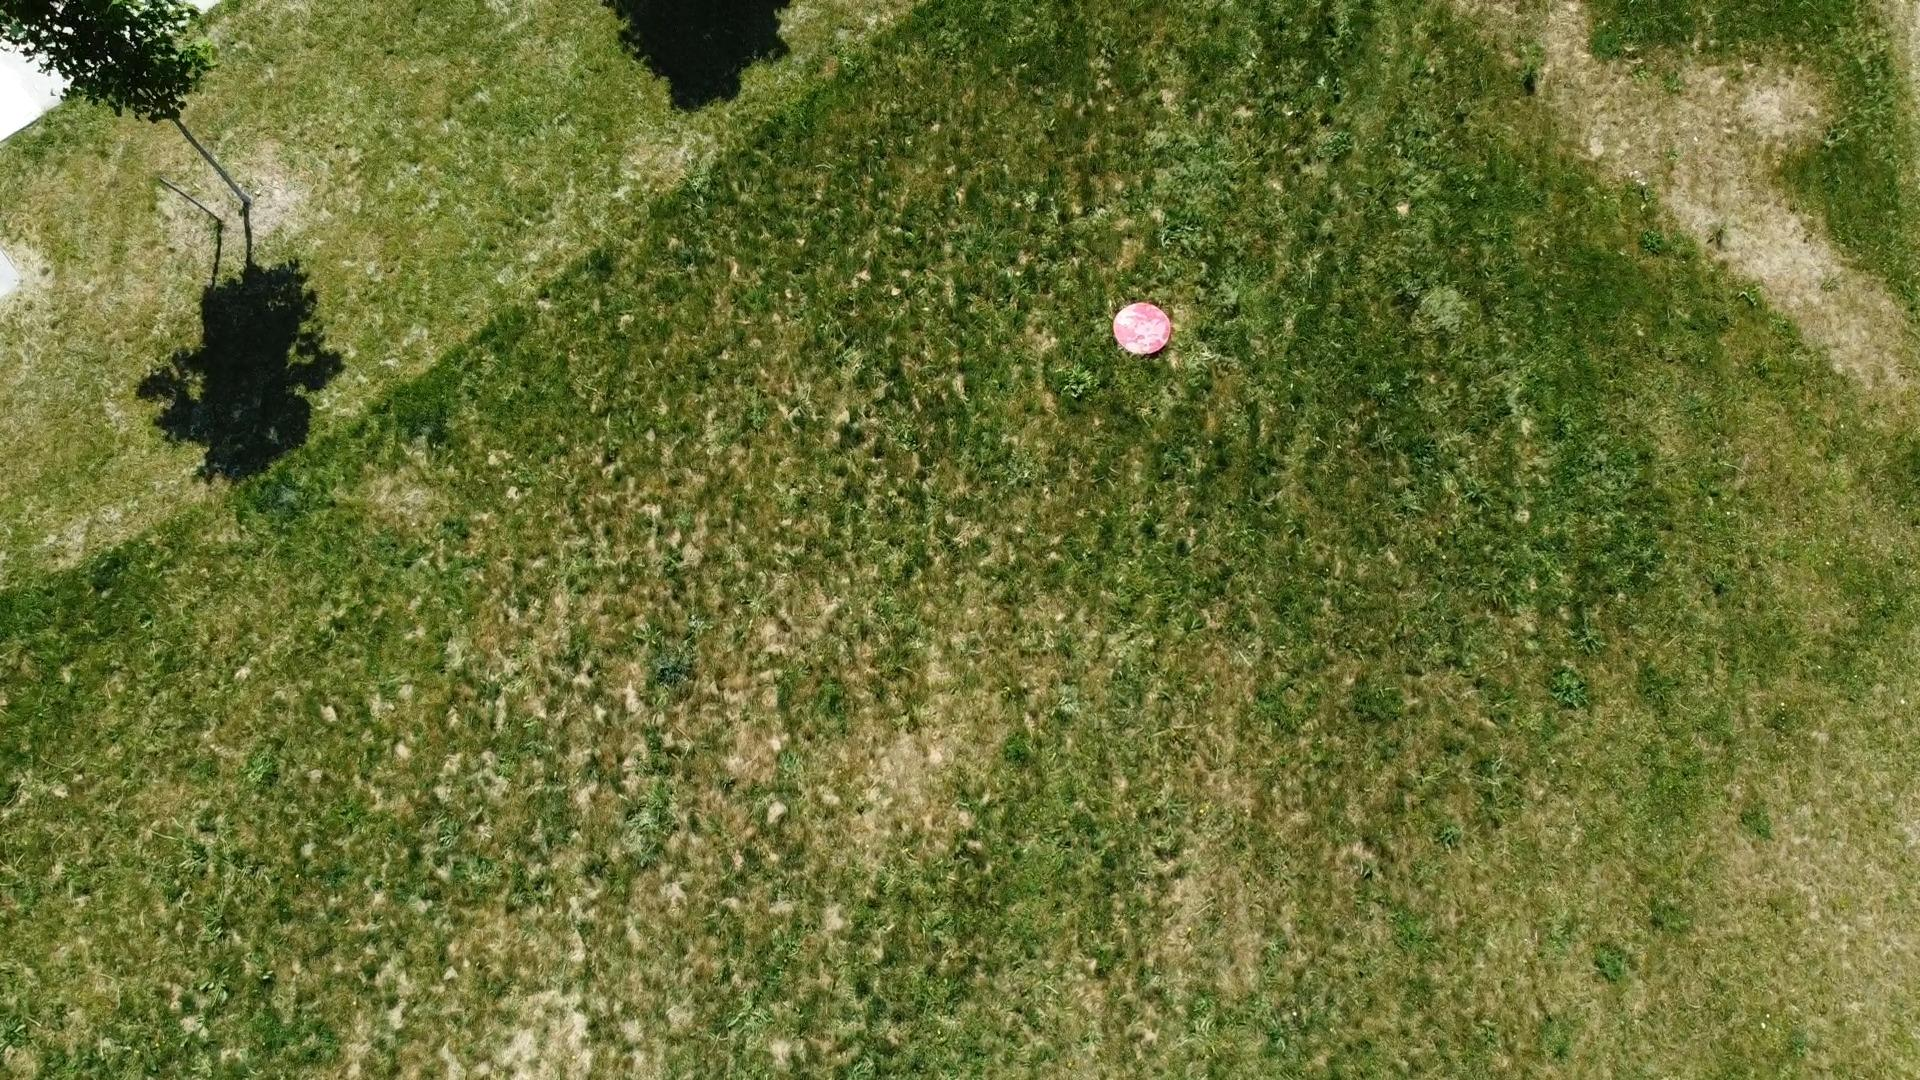Red: (1109, 297, 1174, 360)
